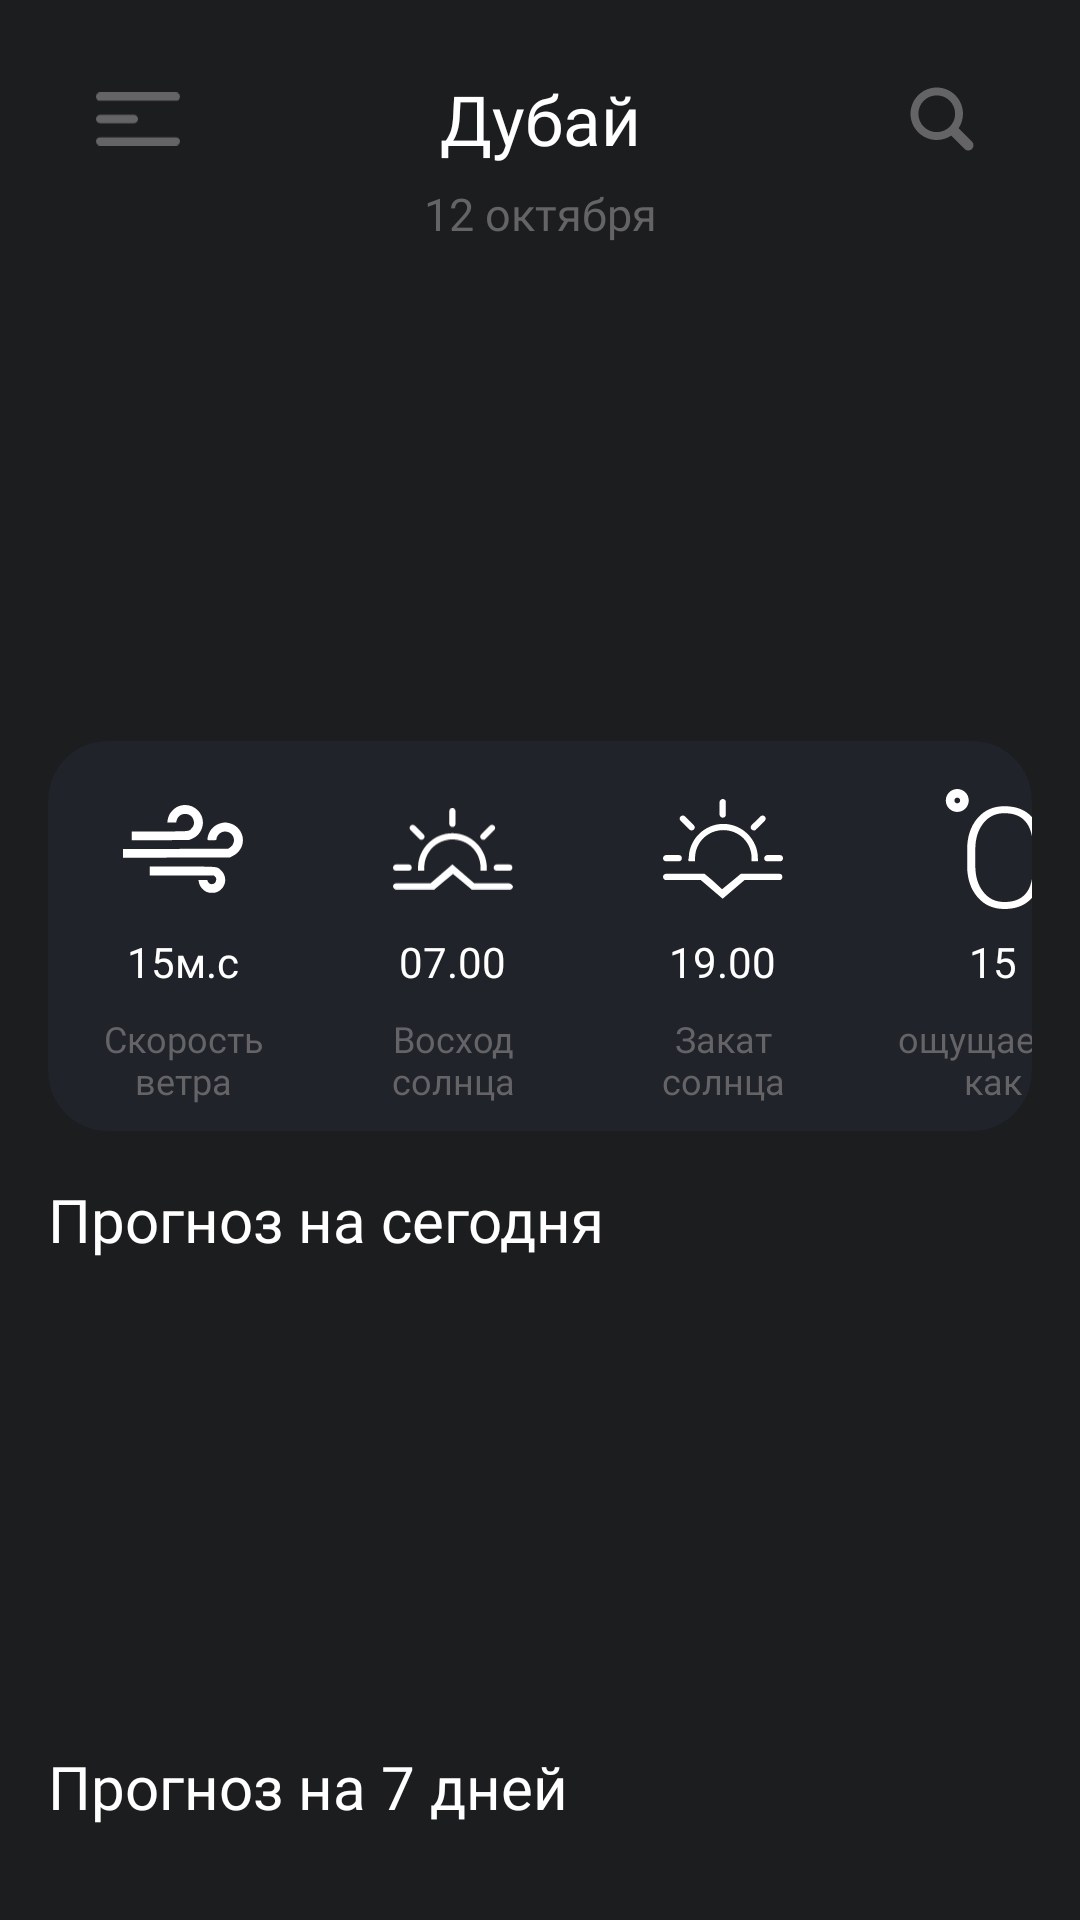

Named icons in this screenshot (1080*1920) and their centers, (x=x, y=y):
burger: (x=138, y=119)
search: (x=942, y=119)
sun rise: (x=453, y=849)
sun set: (x=723, y=849)
wind: (x=183, y=849)
